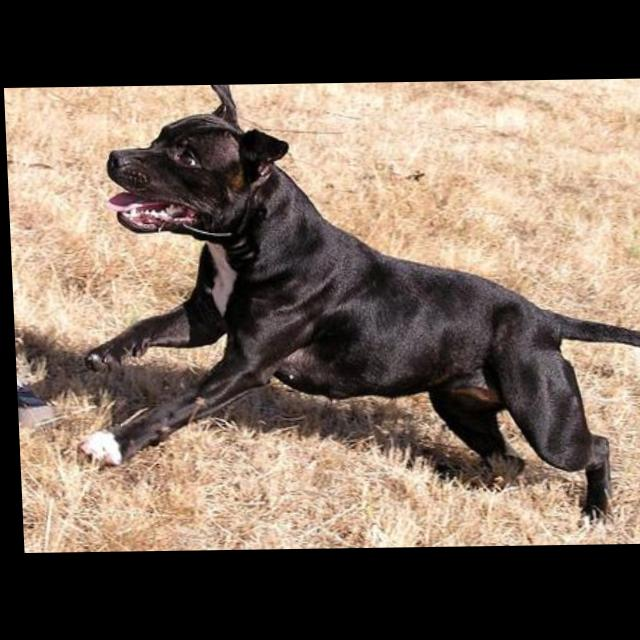staffford: (64, 81, 640, 537)
